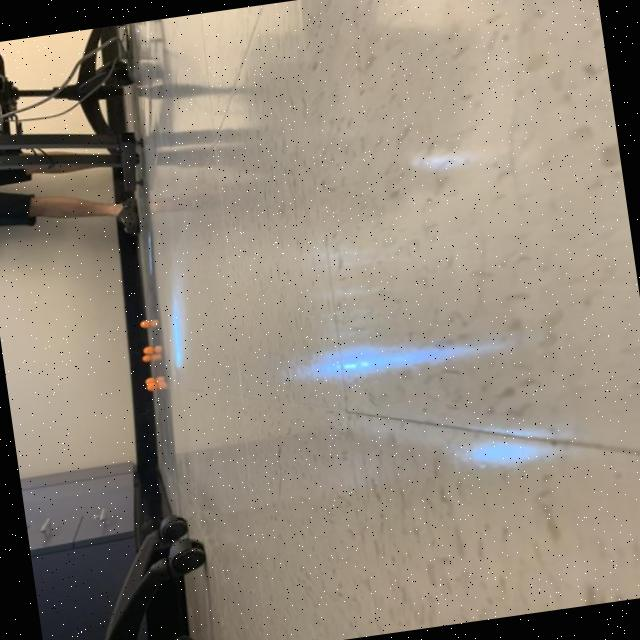ping-pong-ball: (144, 381, 157, 393), (141, 345, 154, 357), (140, 354, 152, 364), (138, 319, 150, 329), (144, 377, 156, 386)
